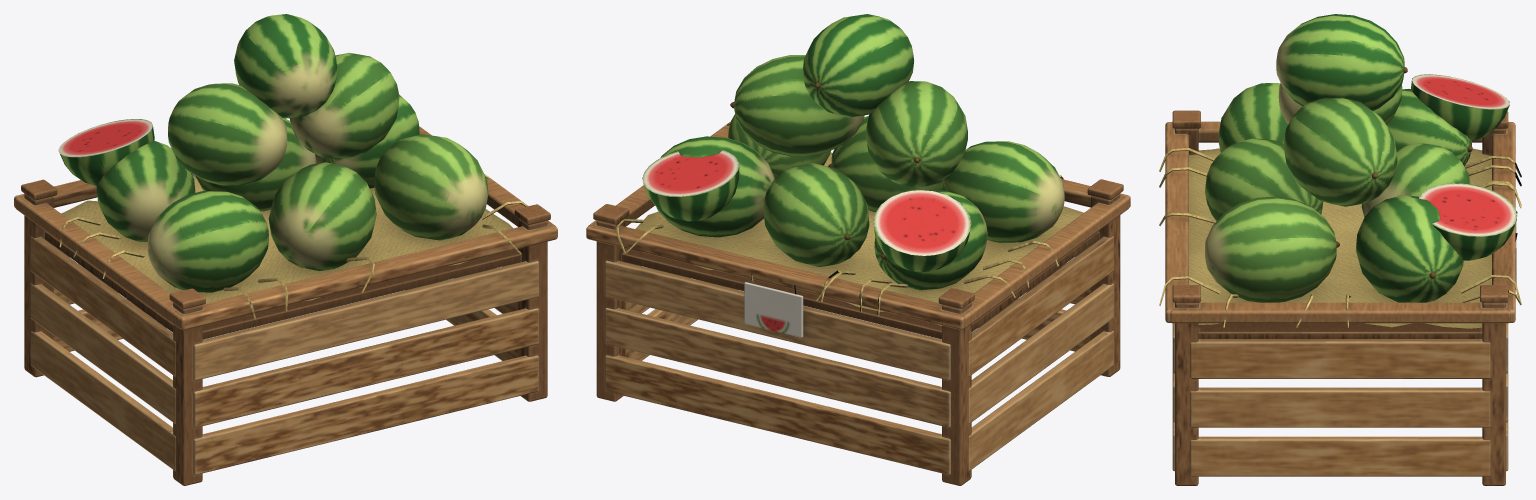
Rendered from watermelon-pile.fbx.
3 renders of one model, left to right at view 1: azimuth 30°, elevation 25°; view 2: azimuth 150°, elevation 25°; view 3: azimuth 270°, elevation 25°, orthographic. The views are drawn at different scales.
Parts seen in each view (by area): view 1: Body; view 2: Body; view 3: Body.
Part boxes in pixels (x1,y1,x2,y2): Body: (14, 14, 557, 485); Body: (586, 14, 1130, 485); Body: (1159, 14, 1521, 485).
Size of the model in its own units: 1.45 by 1.31 by 1.15.
